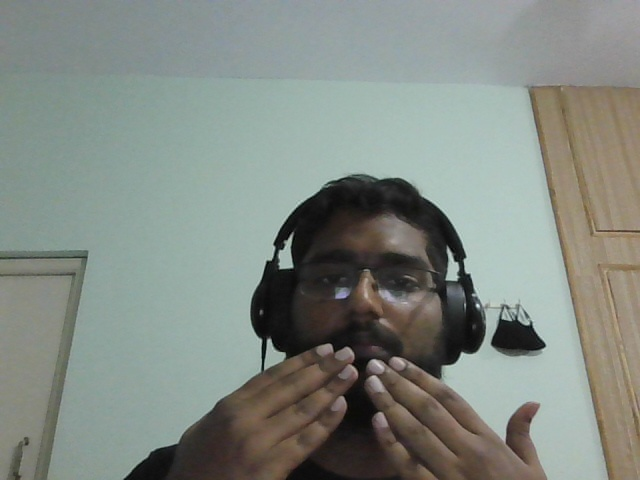Thank You: (167, 342, 574, 480)
